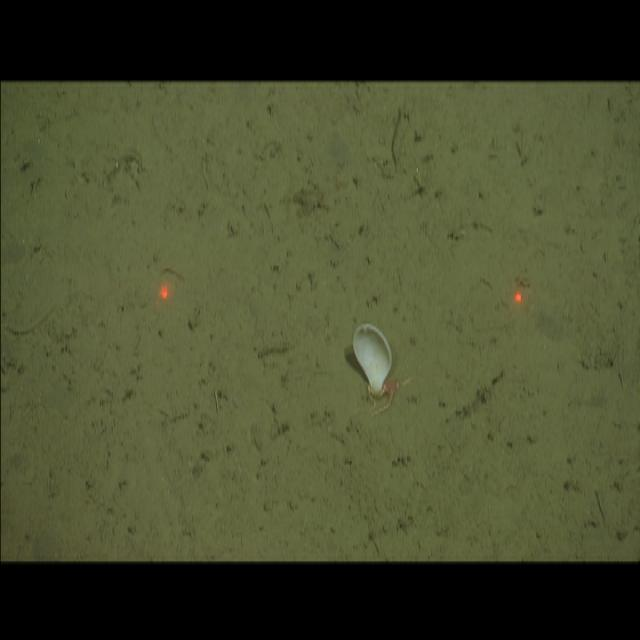Brittle Star: (366, 362, 421, 420)
Not Brittle Star: (346, 316, 396, 400)
